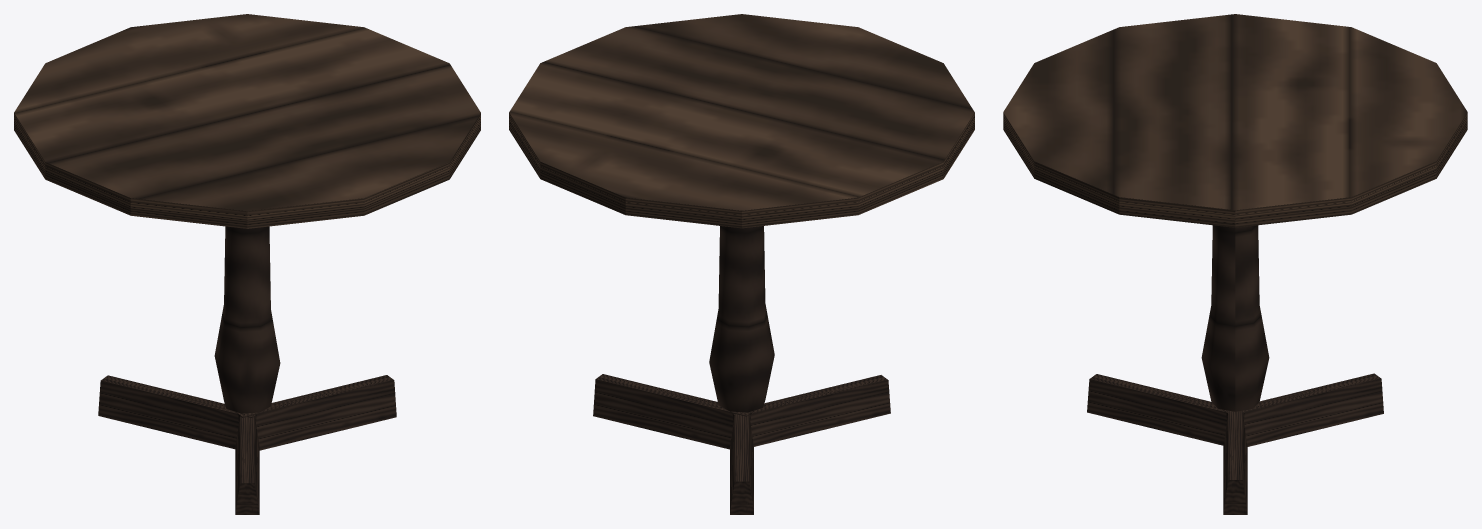
Rendered from PSXH_Table_Round.obj.
3 renders of one model, left to right at view 1: azimuth 30°, elevation 25°; view 2: azimuth 150°, elevation 25°; view 3: azimuth 270°, elevation 25°, orthographic.
Parts seen in each view (by area): view 1: PSXH_Table_Round; view 2: PSXH_Table_Round; view 3: PSXH_Table_Round.
Boxes of the visible parts, <box> form: PSXH_Table_Round: <box>14,14,480,514</box>; PSXH_Table_Round: <box>509,14,974,514</box>; PSXH_Table_Round: <box>1003,14,1467,514</box>.
Bounding box in the file's own units: 0.96 × 0.76 × 0.96.
1 material, 1 textured.
